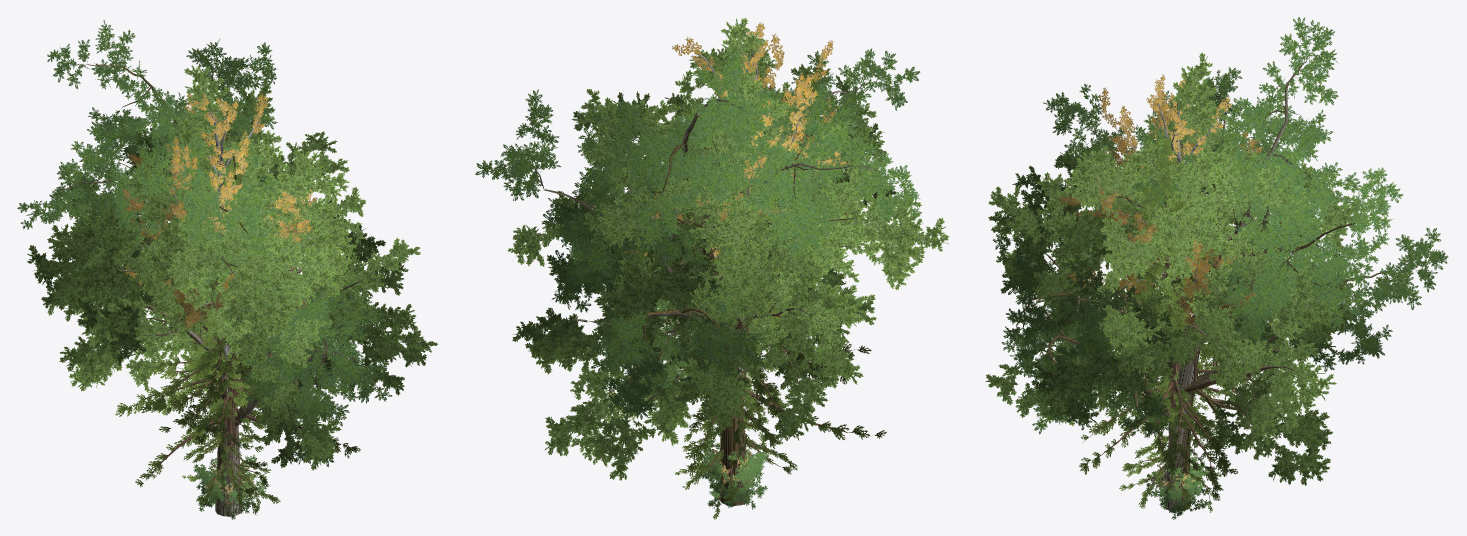
Rendered from trees.glb.
The picture shows the model from 3 angles, left to right: view 1: azimuth 30°, elevation 25°; view 2: azimuth 150°, elevation 25°; view 3: azimuth 270°, elevation 25°; orthographic projection. The views are drawn at different scales.
Parts seen in each view (by area): view 1: oak_b_leaves, ash_a_leaves, oak_a_leaves, pine_a_leaves, aspen_a_leaves, pine_b_leaves, ash_a_bark, bush_a_leaves, pine_a_bark, pine_b_bark, oak_a_bark, aspen_a_bark; view 2: ash_a_leaves, oak_b_leaves, oak_a_leaves, aspen_a_leaves, pine_a_leaves, ash_a_bark, pine_b_leaves, bush_a_leaves, oak_a_bark; view 3: ash_a_leaves, oak_b_leaves, oak_a_leaves, pine_a_leaves, aspen_a_leaves, ash_a_bark, pine_b_leaves, bush_a_leaves, pine_a_bark, oak_a_bark, oak_b_bark, aspen_a_bark.
Part boxes in pixels (left/top/right/bottom): oak_b_leaves: left=27, top=65, right=438, bottom=395; ash_a_leaves: left=17, top=20, right=392, bottom=467; oak_a_leaves: left=41, top=112, right=384, bottom=470; pine_a_leaves: left=115, top=141, right=360, bottom=487; aspen_a_leaves: left=116, top=92, right=317, bottom=328; pine_b_leaves: left=182, top=312, right=280, bottom=515; ash_a_bark: left=42, top=55, right=358, bottom=516; bush_a_leaves: left=193, top=451, right=267, bottom=519; pine_a_bark: left=144, top=282, right=340, bottom=476; pine_b_bark: left=195, top=333, right=270, bottom=503; oak_a_bark: left=109, top=185, right=309, bottom=438; aspen_a_bark: left=140, top=109, right=294, bottom=398; ash_a_leaves: left=475, top=48, right=921, bottom=419; oak_b_leaves: left=508, top=17, right=949, bottom=378; oak_a_leaves: left=512, top=47, right=918, bottom=480; aspen_a_leaves: left=621, top=22, right=861, bottom=262; pine_a_leaves: left=595, top=78, right=886, bottom=476; ash_a_bark: left=526, top=77, right=879, bottom=505; pine_b_leaves: left=675, top=250, right=797, bottom=519; bush_a_leaves: left=695, top=438, right=767, bottom=509; oak_a_bark: left=540, top=240, right=881, bottom=442; ash_a_leaves: left=992, top=17, right=1448, bottom=437; oak_b_leaves: left=988, top=52, right=1361, bottom=425; oak_a_leaves: left=986, top=107, right=1336, bottom=485; pine_a_leaves: left=1079, top=137, right=1281, bottom=500; aspen_a_leaves: left=1058, top=74, right=1268, bottom=333; ash_a_bark: left=1023, top=56, right=1412, bottom=511; pine_b_leaves: left=1119, top=274, right=1227, bottom=512; bush_a_leaves: left=1145, top=450, right=1209, bottom=519; pine_a_bark: left=1082, top=177, right=1249, bottom=484; oak_a_bark: left=1026, top=189, right=1304, bottom=438; oak_b_bark: left=1057, top=116, right=1271, bottom=446; aspen_a_bark: left=1100, top=90, right=1244, bottom=310.
Size of the model in its own units: 10.96 by 13.2 by 11.94.
7 materials, 7 textured.
